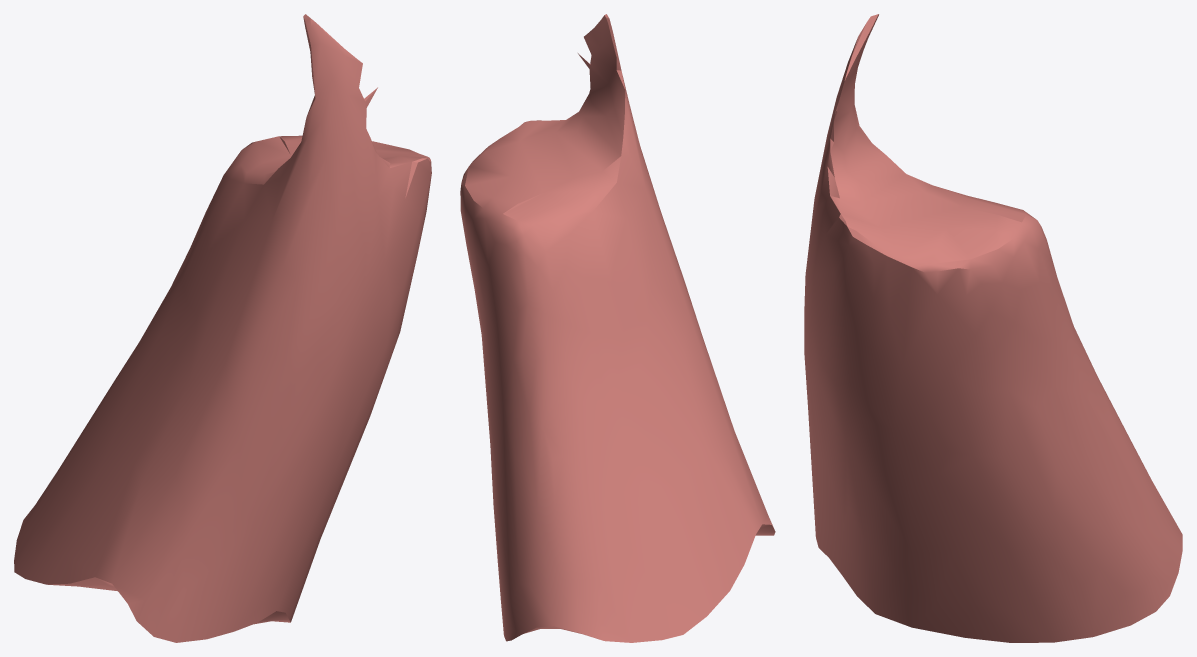
File: fma63226_mm1774.glb
The picture shows the model from 3 angles, left to right: view 1: azimuth 30°, elevation 25°; view 2: azimuth 150°, elevation 25°; view 3: azimuth 270°, elevation 25°; orthographic projection. The views are drawn at different scales.
Visible parts, largest first — view 1: FMA63226_MM1774; view 2: FMA63226_MM1774; view 3: FMA63226_MM1774.
Part boxes in pixels (x1=…): FMA63226_MM1774: x1=14, y1=14, x2=431, y2=642; FMA63226_MM1774: x1=460, y1=14, x2=775, y2=642; FMA63226_MM1774: x1=804, y1=14, x2=1182, y2=642.
Bounding box in the file's own units: 0.0133 × 0.0236 × 0.013.
